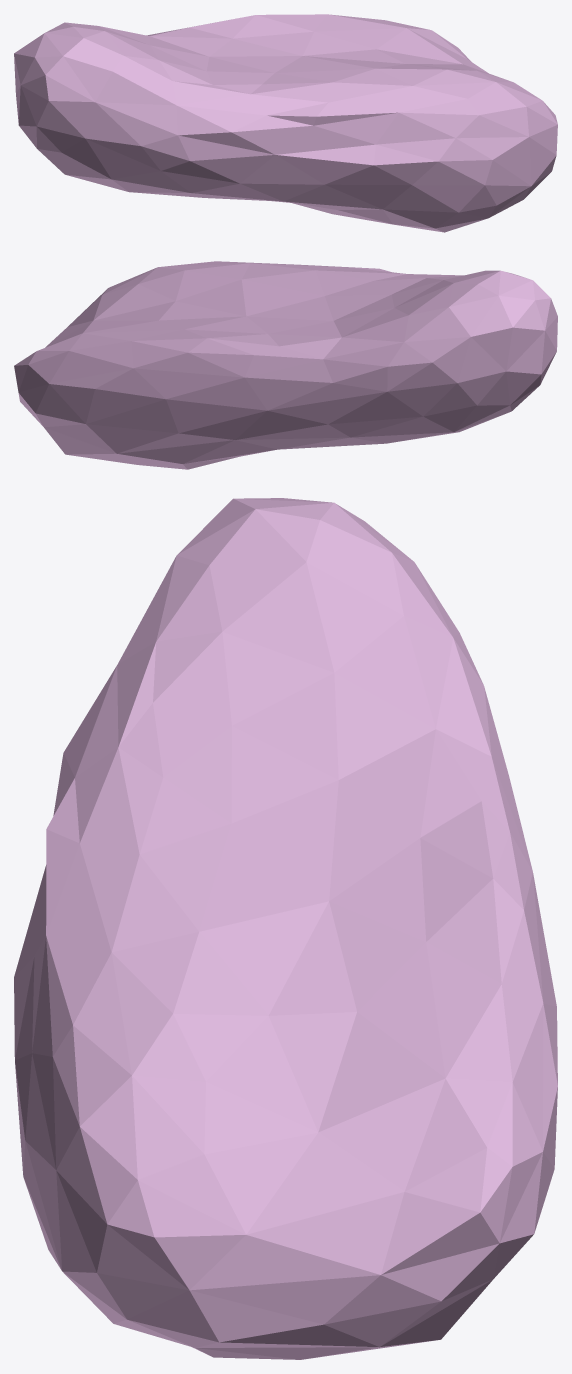
3 renders of one model, top to bottom at view 1: azimuth 30°, elevation 25°; view 2: azimuth 150°, elevation 25°; view 3: azimuth 270°, elevation 25°, orthographic. The views are drawn at different scales.
Visible parts, largest first — view 1: 12.obj; view 2: 12.obj; view 3: 12.obj.
Part boxes in pixels (x1=…): 12.obj: x1=14, y1=14, x2=557, y2=232; 12.obj: x1=14, y1=261, x2=557, y2=469; 12.obj: x1=14, y1=498, x2=557, y2=1359.
Bounding box in the file's own units: 902 × 441 × 443.
